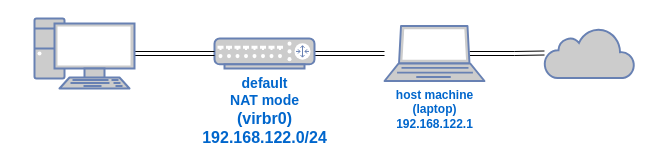
Some shapes in this 653 by 164 pixel diagram are drawn without their labels. Here are the shapes that lost their labels. From the top down, the centre of each, then its label:
At point (84, 53): "sysadmin 192.168.122.140 (DHCP)".
At point (589, 52): "Internet".
